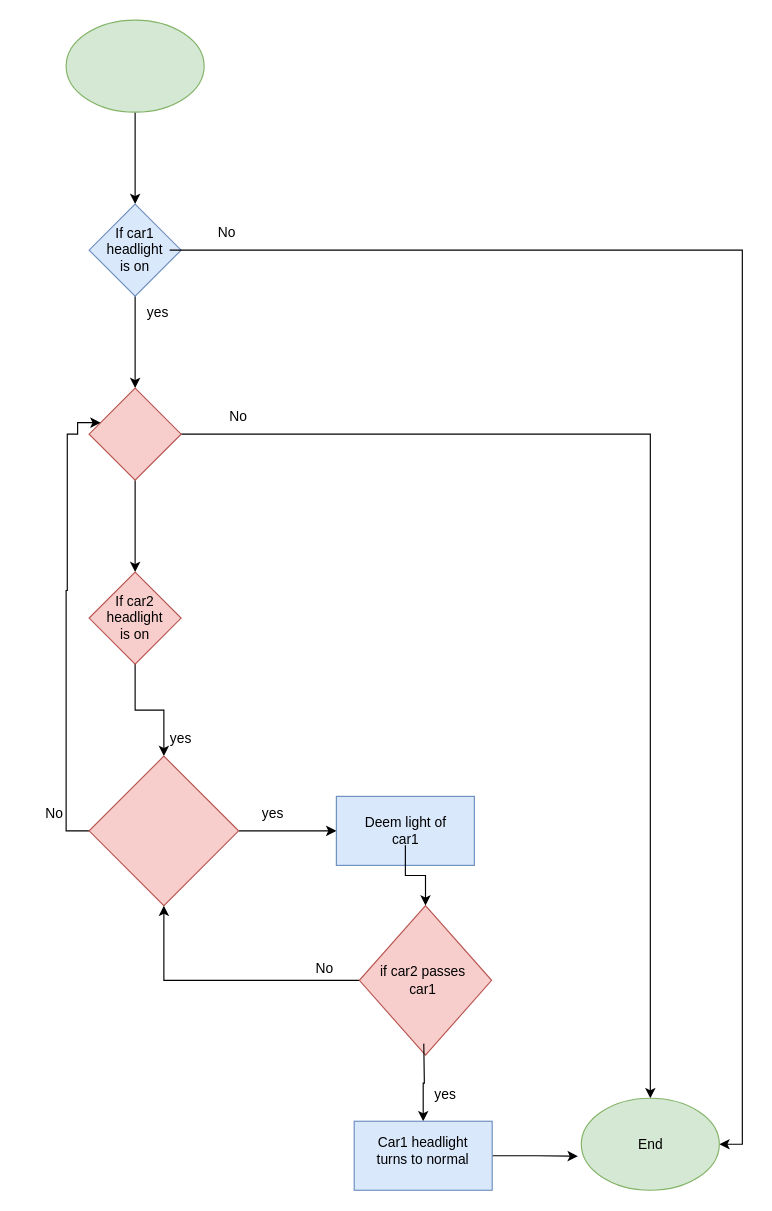
Image size: 772x1211. Some labels were removed from this diagram. Each missing label, with the box of its shape:
If car2 is approaching: (88, 387, 181, 480)
if car2 is at distance x from car1: (88, 755, 239, 906)
Start: (65, 19, 204, 112)
